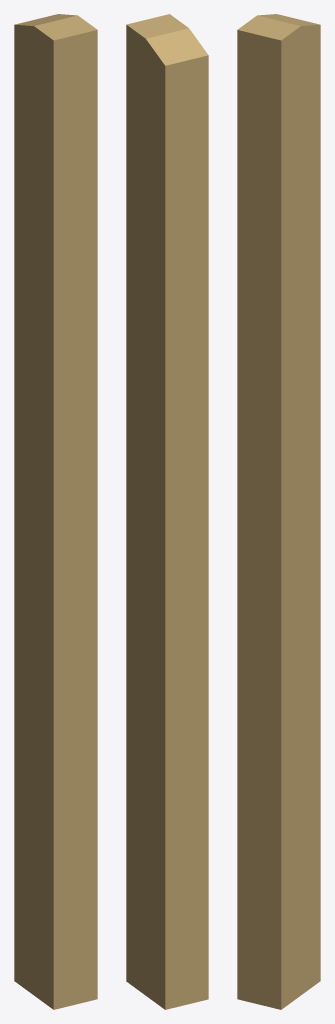
3 views of the same model, side by side, from view 1: azimuth 30°, elevation 25°; view 2: azimuth 210°, elevation 25°; view 3: azimuth 330°, elevation 25° (orthographic).
Visible parts, largest first — view 1: L1-3-S14-32A-WEB07; view 2: L1-3-S14-32A-WEB07; view 3: L1-3-S14-32A-WEB07.
Part boxes in pixels (x1,y1,x2,y2): L1-3-S14-32A-WEB07: (14,14,97,1009); L1-3-S14-32A-WEB07: (126,14,208,1009); L1-3-S14-32A-WEB07: (237,14,320,1009).
Size of the model in its own units: 0.045 by 0.95 by 0.07.
